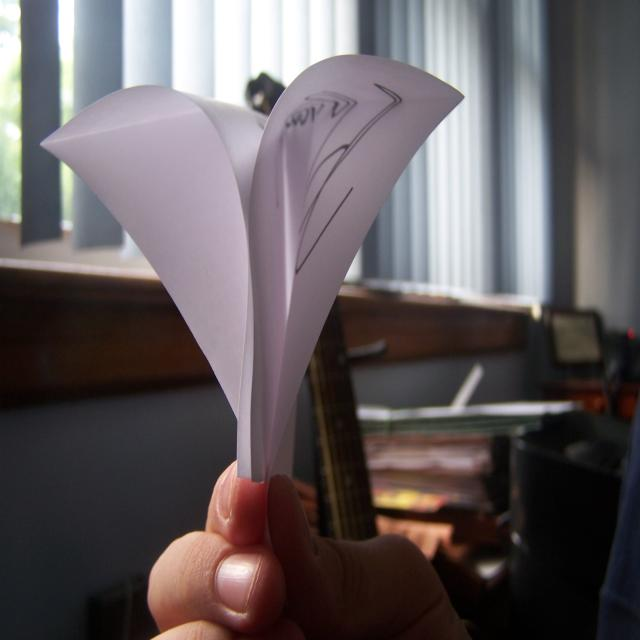PaperCardboard: (41, 55, 464, 483)
